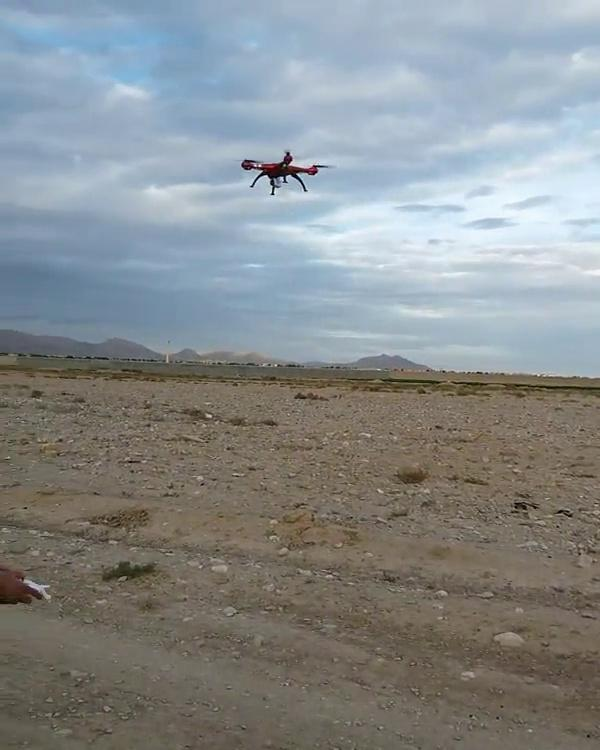drone: (230, 143, 344, 198)
